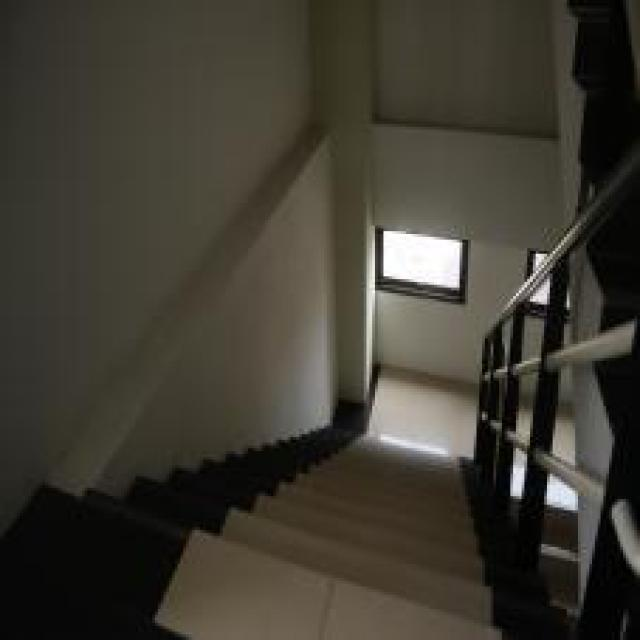downstair: (176, 464, 489, 639)
